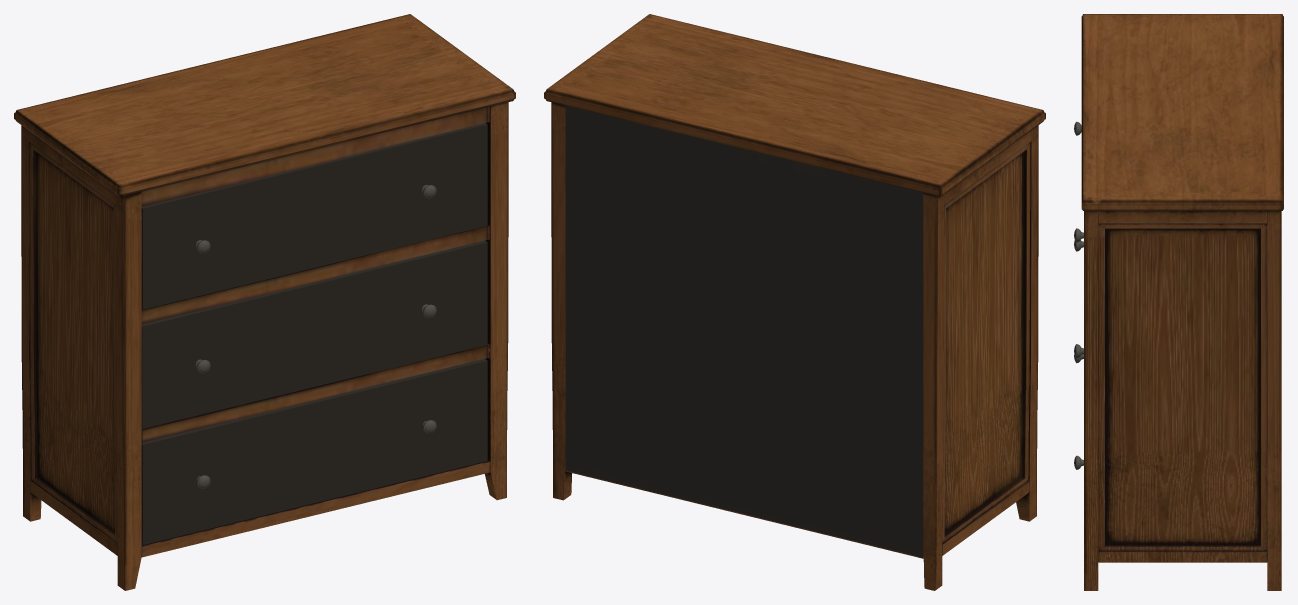
The model's file is B071ZHY8X9.glb.
The picture shows the model from 3 angles, left to right: view 1: azimuth 30°, elevation 25°; view 2: azimuth 150°, elevation 25°; view 3: azimuth 270°, elevation 25°; orthographic projection. The views are drawn at different scales.
Visible parts, largest first — view 1: RootNode; view 2: RootNode; view 3: RootNode.
Boxes of the visible parts, box(x1,y1,x2,y2) form: RootNode: box(14, 14, 515, 590); RootNode: box(544, 14, 1045, 590); RootNode: box(1074, 14, 1283, 590).
Bounding box in the file's own units: 1.25 × 1.22 × 0.5912.
1 material, 1 textured.
